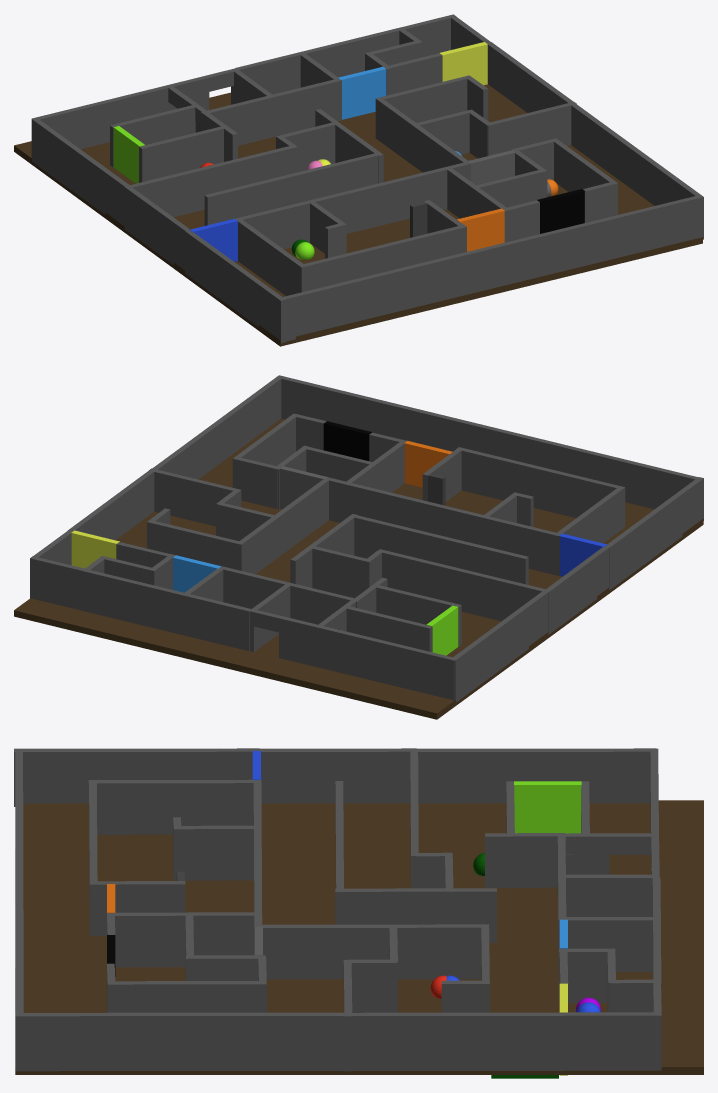
The model's file is Labyrinth1.1.fbx.
3 renders of one model, top to bottom at view 1: azimuth 30°, elevation 25°; view 2: azimuth 150°, elevation 25°; view 3: azimuth 270°, elevation 25°, orthographic. The views are drawn at different scales.
Parts seen in each view (by area): view 1: Cube.055, Boden.001, Cube.050, Cube.051, Cube.066, Cube.030, Cube.018, Cube.054, Cube.057, Cube.026, Cube.036, Cube.025 (+40 smaller); view 2: Boden.001, Cube.055, Cube.050, Cube.036, Cube.025, Cube.057, Cube.030, Cube.051, Cube.066, Cube.054, Cube.026, Cube.044 (+34 smaller); view 3: Boden.001, Cube.066, Cube.043, Cube.026, Cube.044, Cube.054, Cube.052, Cube.056, Cube.064, Cube.033, Cube.041, Cube.067 (+25 smaller).
Boxes of the visible parts, box(x1,y1,x2,y2) form: Cube.055: box(279, 196, 698, 341); Boden.001: box(14, 84, 702, 346); Cube.050: box(235, 162, 470, 249); Cube.051: box(204, 153, 377, 225); Cube.066: box(570, 103, 703, 239); Cube.030: box(126, 145, 297, 217); Cube.018: box(201, 79, 341, 145); Cube.054: box(185, 230, 285, 343); Cube.057: box(300, 225, 466, 290); Cube.026: box(32, 119, 129, 225); Cube.036: box(235, 28, 399, 94); Cube.025: box(31, 86, 168, 157); Boden.001: box(14, 418, 703, 719); Cube.055: box(281, 376, 701, 509); Cube.050: box(328, 477, 560, 576); Cube.036: box(81, 570, 251, 651); Cube.025: box(316, 626, 457, 700); Cube.057: box(457, 447, 623, 518); Cube.030: box(378, 549, 549, 621); Cube.051: box(354, 515, 528, 584); Cube.066: box(152, 375, 283, 479); Cube.054: box(605, 477, 703, 590); Cube.026: box(453, 590, 549, 702); Cube.044: box(236, 478, 330, 574); Boden.001: box(15, 800, 703, 1074); Cube.066: box(15, 1012, 346, 1071); Cube.043: box(346, 1012, 563, 1070); Cube.026: box(411, 748, 655, 803); Cube.044: box(256, 924, 488, 979); Cube.054: box(14, 748, 259, 806); Cube.052: box(253, 748, 416, 803); Cube.056: box(88, 779, 253, 834); Cube.064: box(114, 912, 259, 967); Cube.033: box(335, 888, 496, 942); Cube.041: box(559, 1012, 661, 1070); Cube.067: box(108, 981, 266, 1012).
Bounding box in the file's own units: 12676 × 2651 × 13801.
